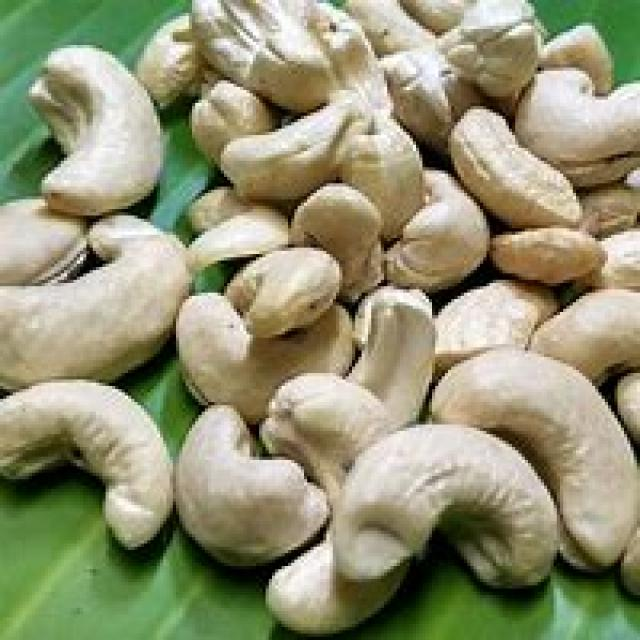Cashew: (0, 397, 182, 576), (504, 355, 640, 562), (391, 420, 546, 583), (33, 48, 160, 204), (169, 403, 291, 560), (0, 257, 159, 367), (239, 97, 342, 187)
